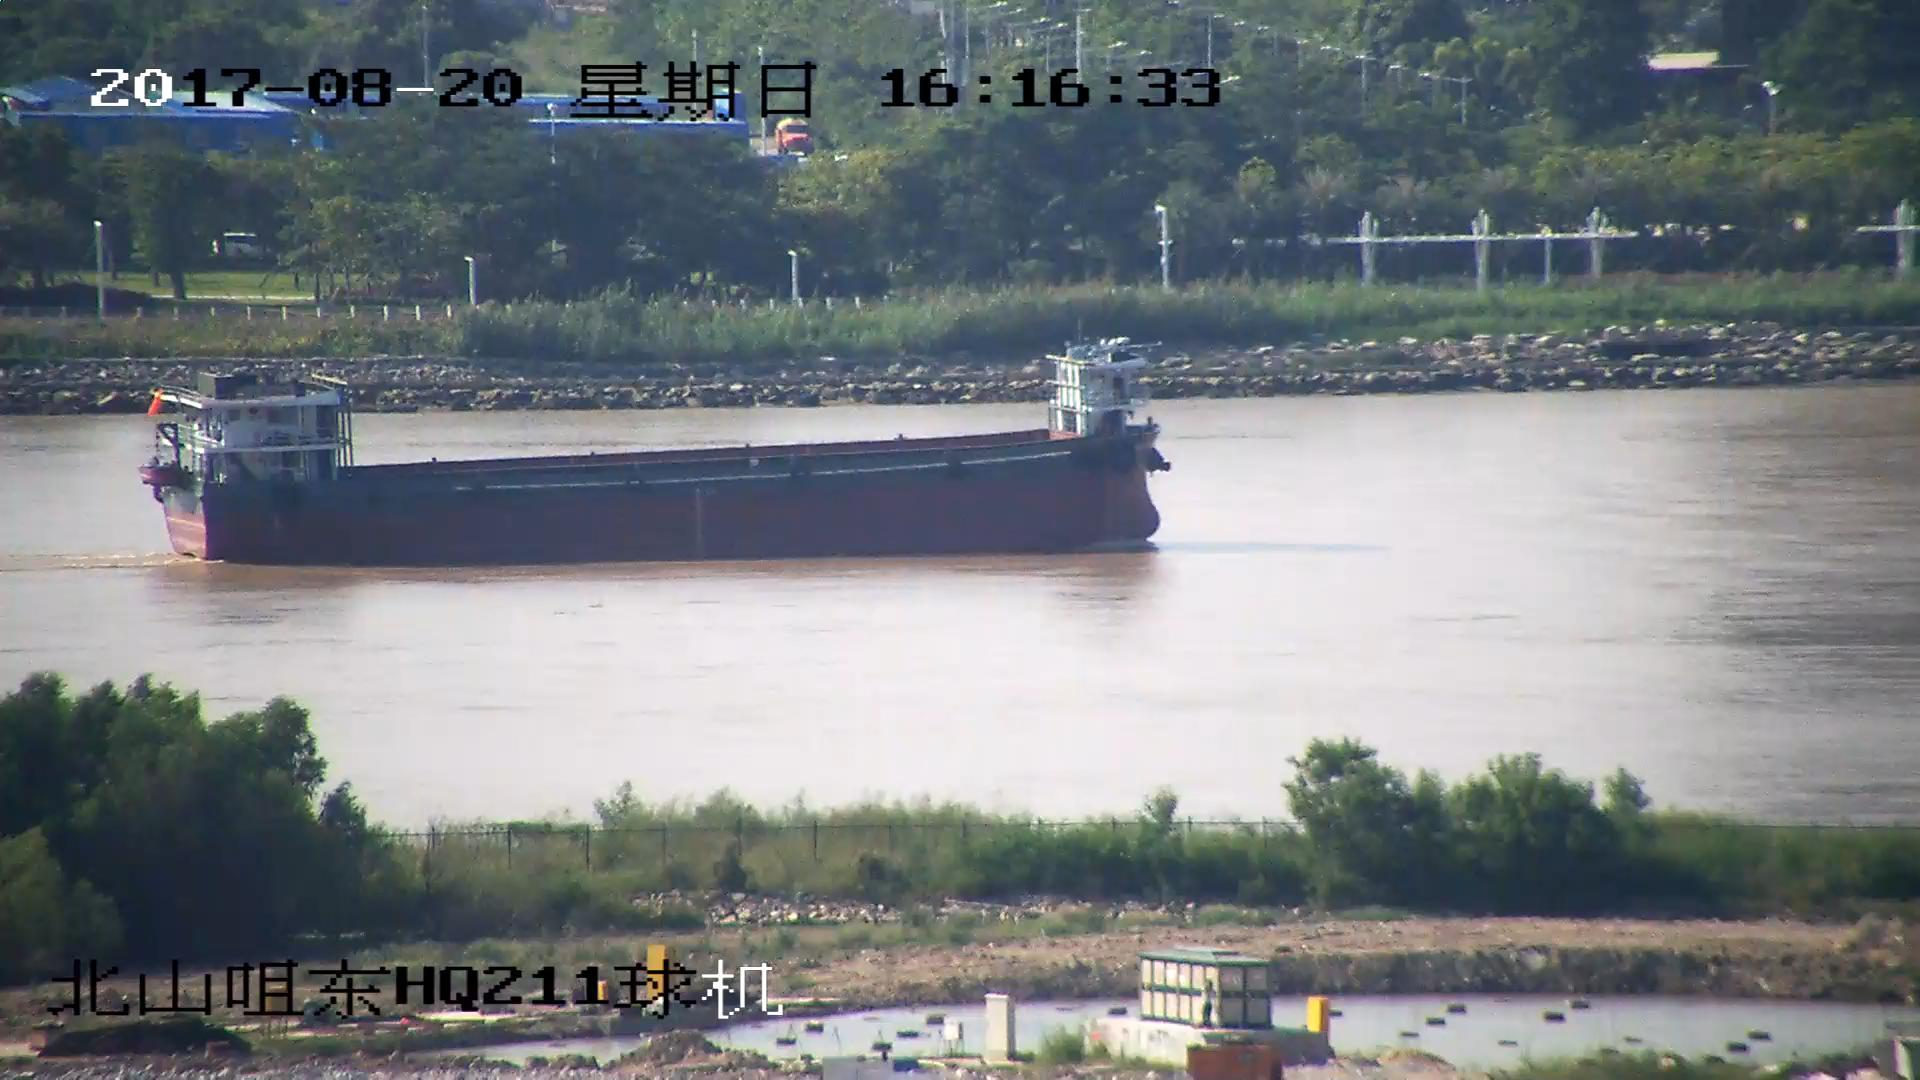Ship: (144, 342, 1174, 553)
